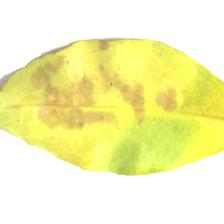black spot: (24, 60, 185, 135)
